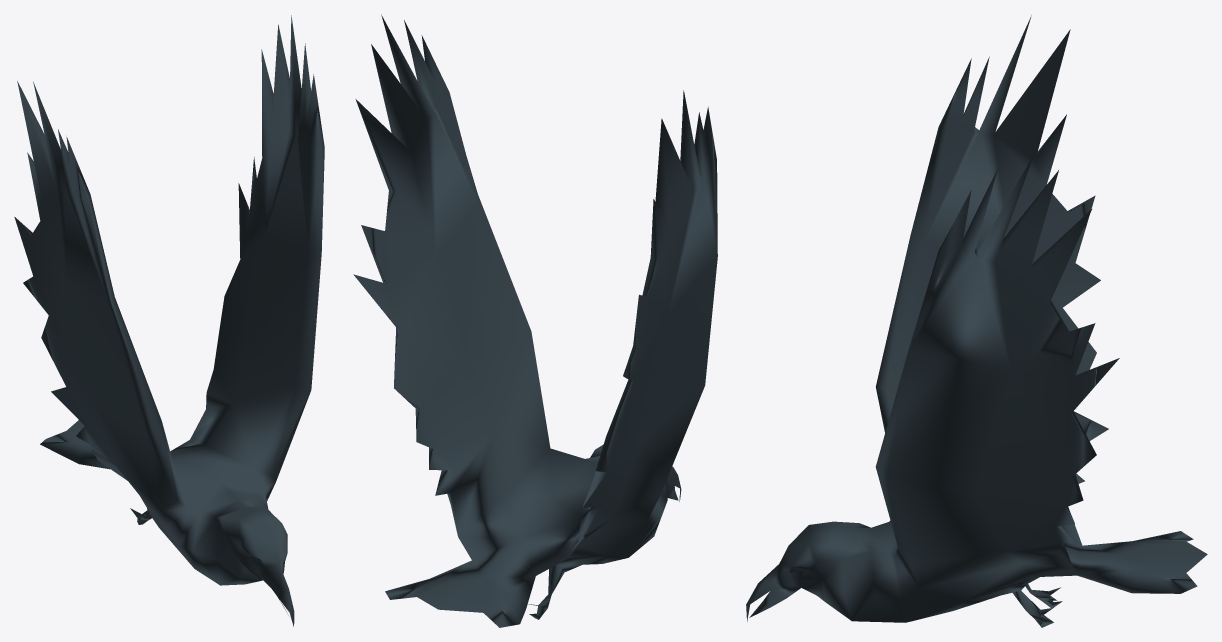
Rendered from raven.gltf.
3 views of the same model, side by side, from view 1: azimuth 30°, elevation 25°; view 2: azimuth 150°, elevation 25°; view 3: azimuth 270°, elevation 25° (orthographic). The views are drawn at different scales.
Bounding box in the file's own units: 31.78 × 57 × 44.21.
